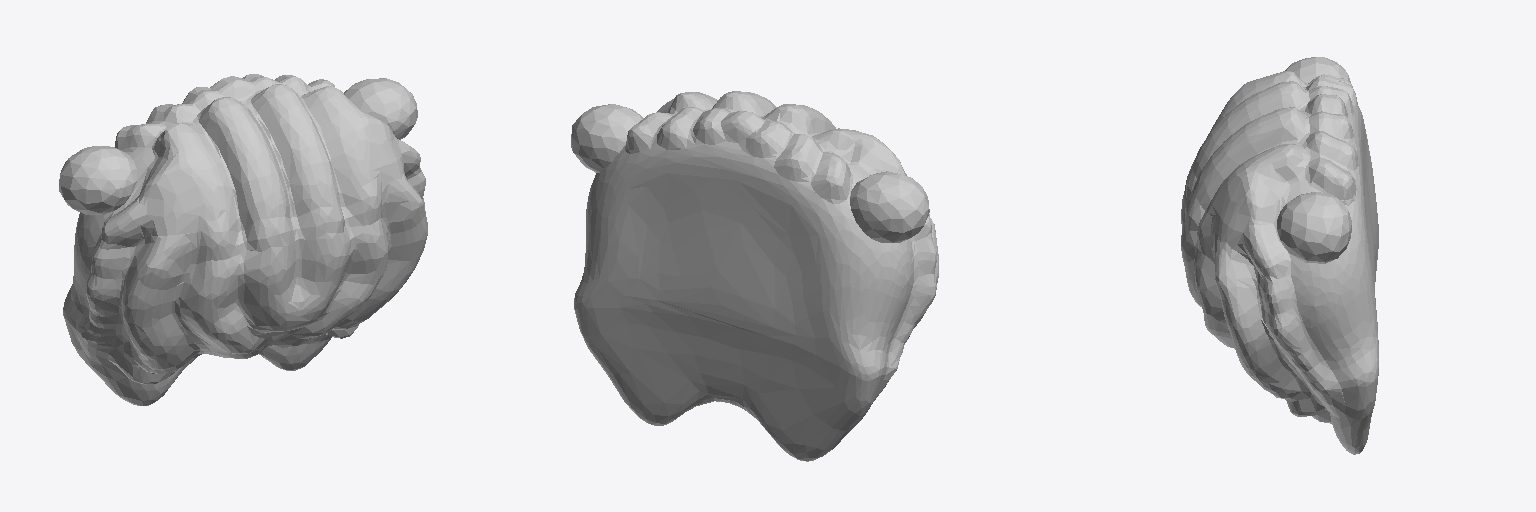
The model's file is rolo.obj.
3 views of the same model, side by side, from view 1: azimuth 30°, elevation 25°; view 2: azimuth 150°, elevation 25°; view 3: azimuth 270°, elevation 25° (orthographic).
Size of the model in its own units: 4.32 by 3.77 by 2.12.